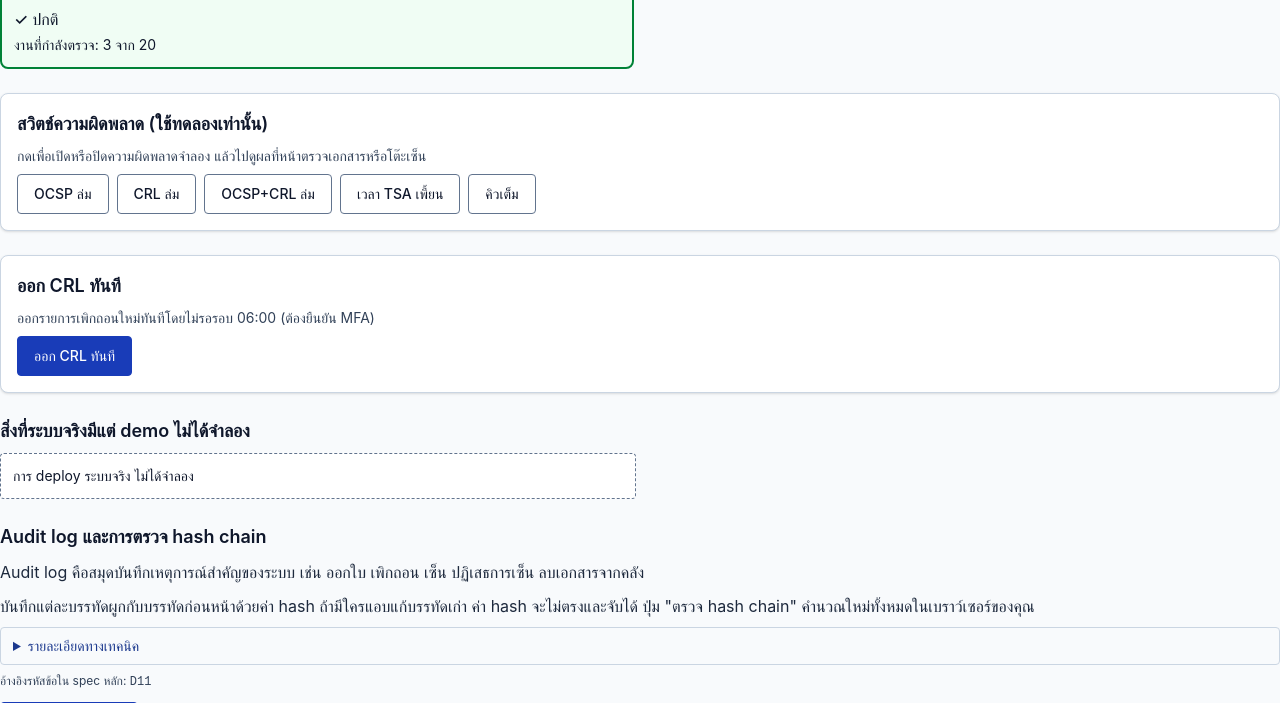
/admin/status › admin-a issues a CRL through the MFA dialog; the code is sent to the API
This screenshot has width=1280, height=703.
(page scrolled)
Step 1. Click the button with test id "admin-status-issue-crl" → (75, 356), box [17,336,132,376]
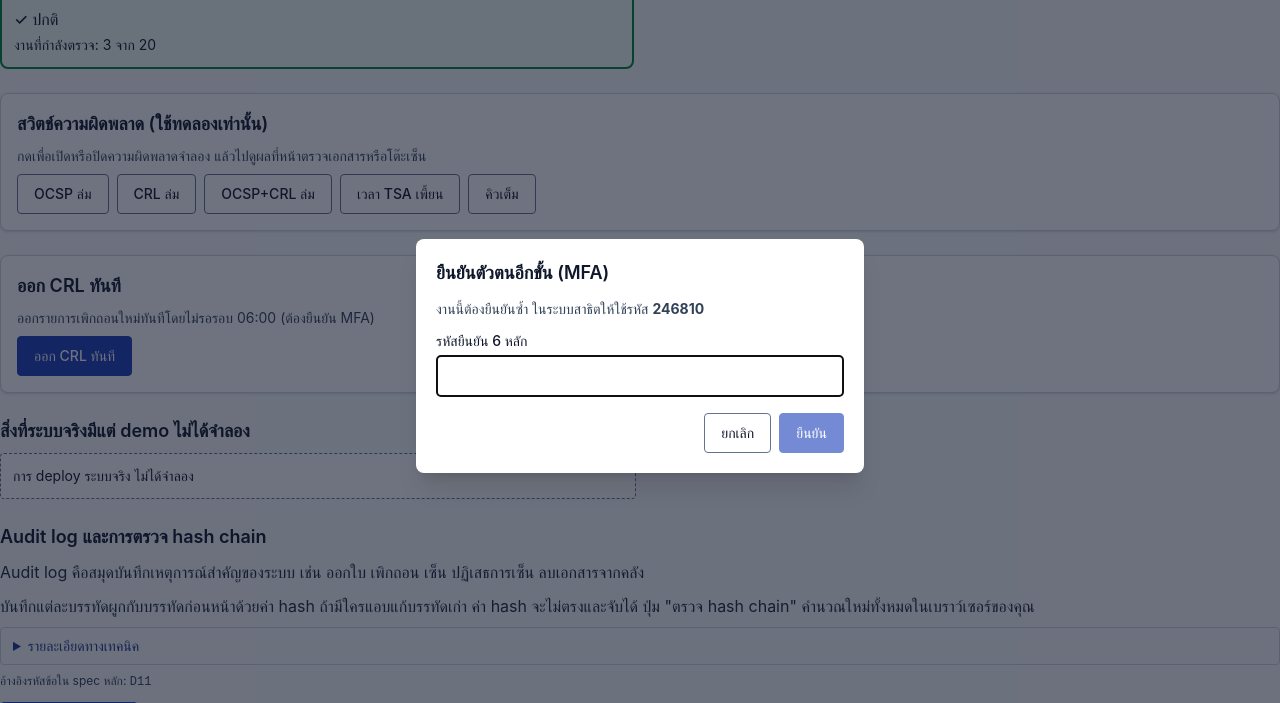
Step 2. Type "246810" into the field with test id "mfa-input" → (640, 376), box [436,355,844,397]
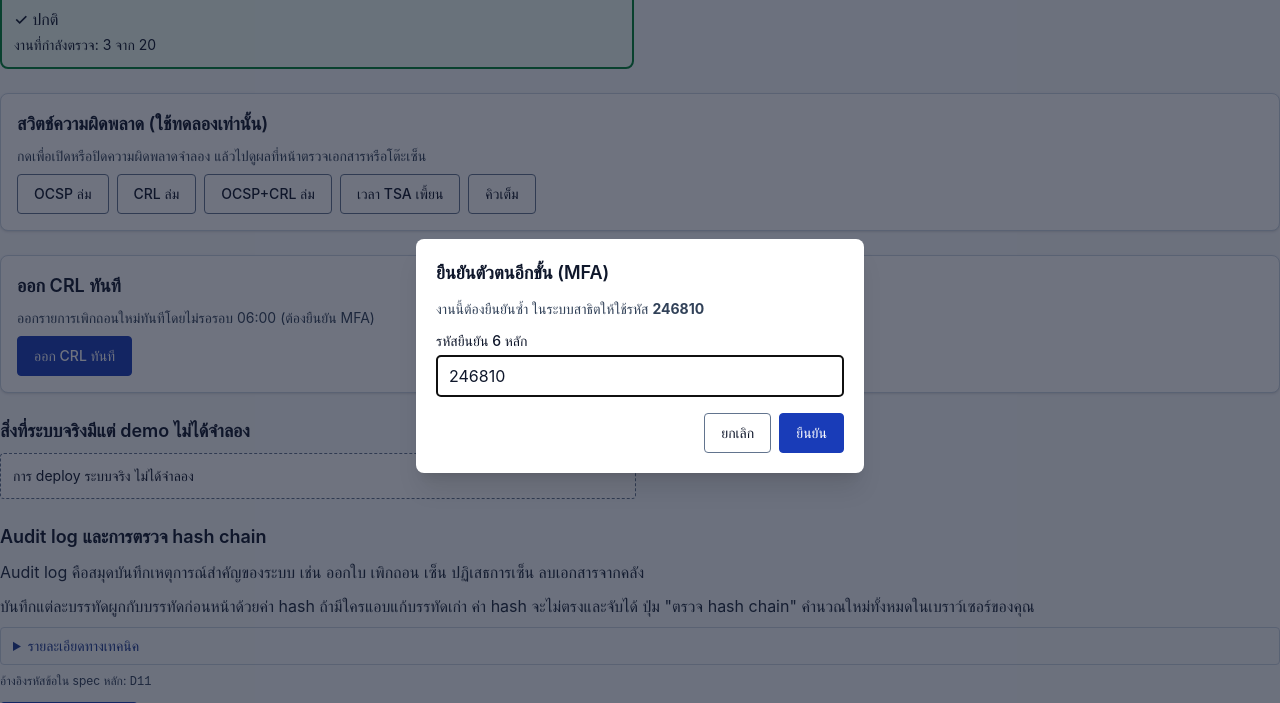
Step 3. Click the button with test id "mfa-submit" → (812, 433), box [779,413,844,453]
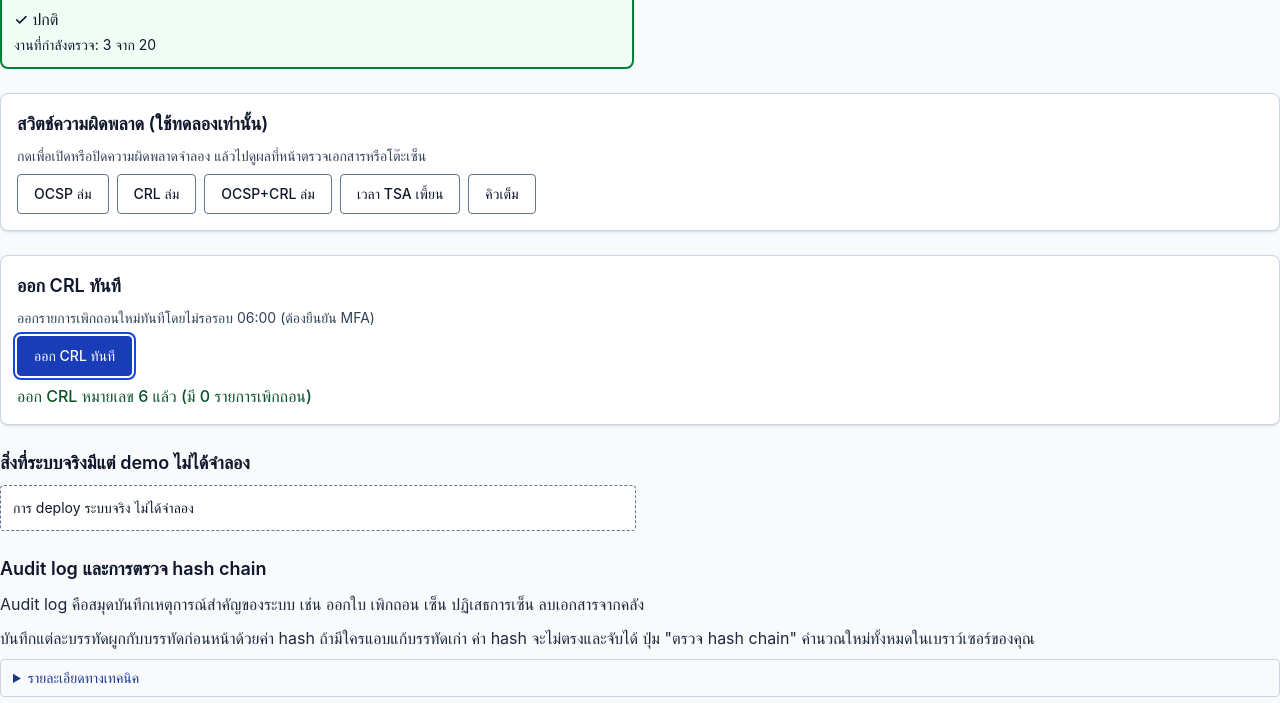
Now the text "ออก CRL หมายเลข 6 แล้ว (มี 0 รายการเพิกถอน)" is shown, box [17,386,312,406]
